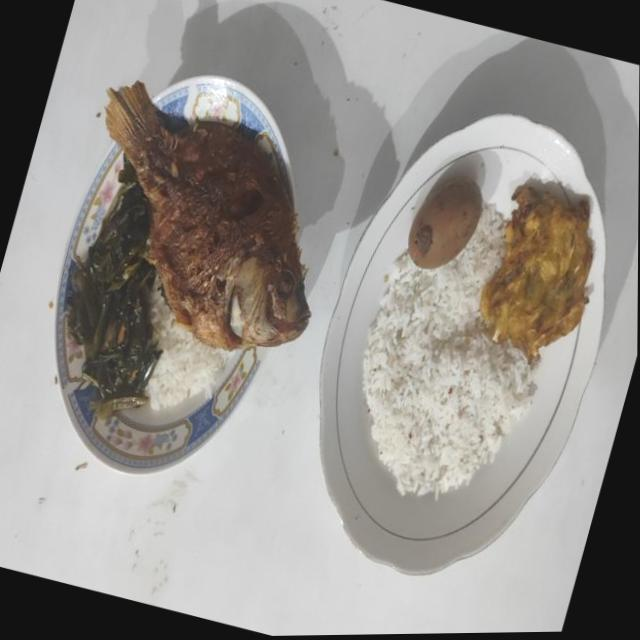ikan_mujair: (106, 82, 310, 350)
nasi_putih: (362, 204, 538, 498), (144, 277, 234, 410)
tumis_kangkung: (65, 157, 162, 418)
